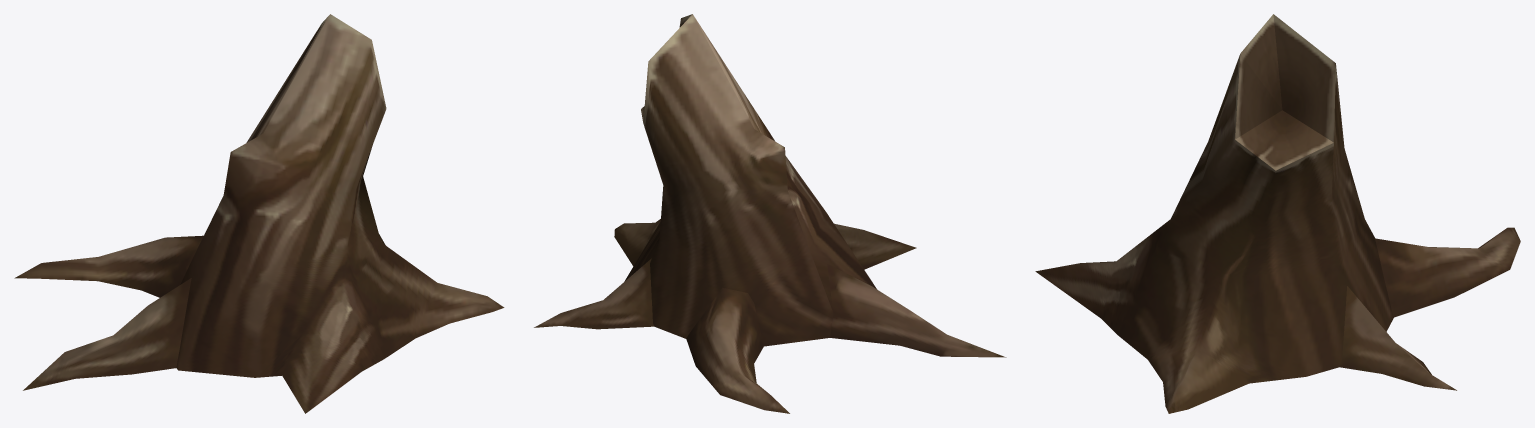
File: FH_Env_obj_17.FBX
3 renders of one model, left to right at view 1: azimuth 30°, elevation 25°; view 2: azimuth 150°, elevation 25°; view 3: azimuth 270°, elevation 25°, orthographic. The views are drawn at different scales.
Parts seen in each view (by area): view 1: ShuZhuang; view 2: ShuZhuang; view 3: ShuZhuang.
Boxes of the visible parts, x1,y1,x2,y2 form: ShuZhuang: [14, 14, 504, 413]; ShuZhuang: [534, 14, 1006, 413]; ShuZhuang: [1035, 14, 1520, 413].
Size of the model in its own units: 3.58 by 2.23 by 2.98.
